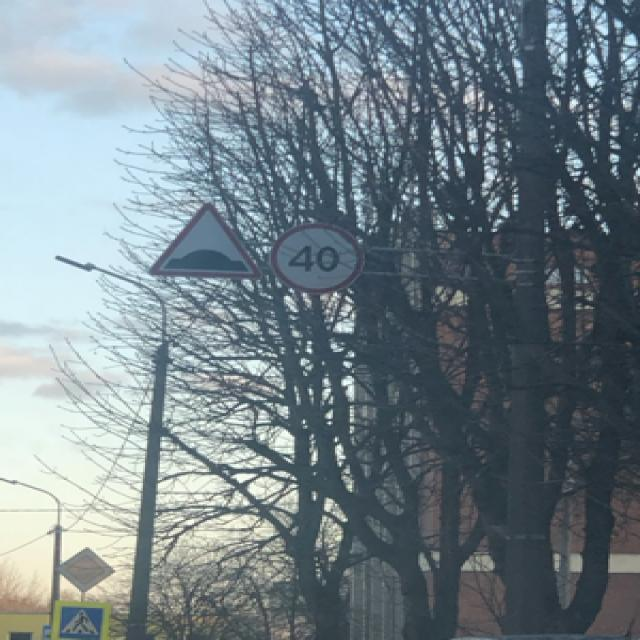crosswalk: (56, 602, 104, 636)
speedlimit: (267, 221, 358, 293)
